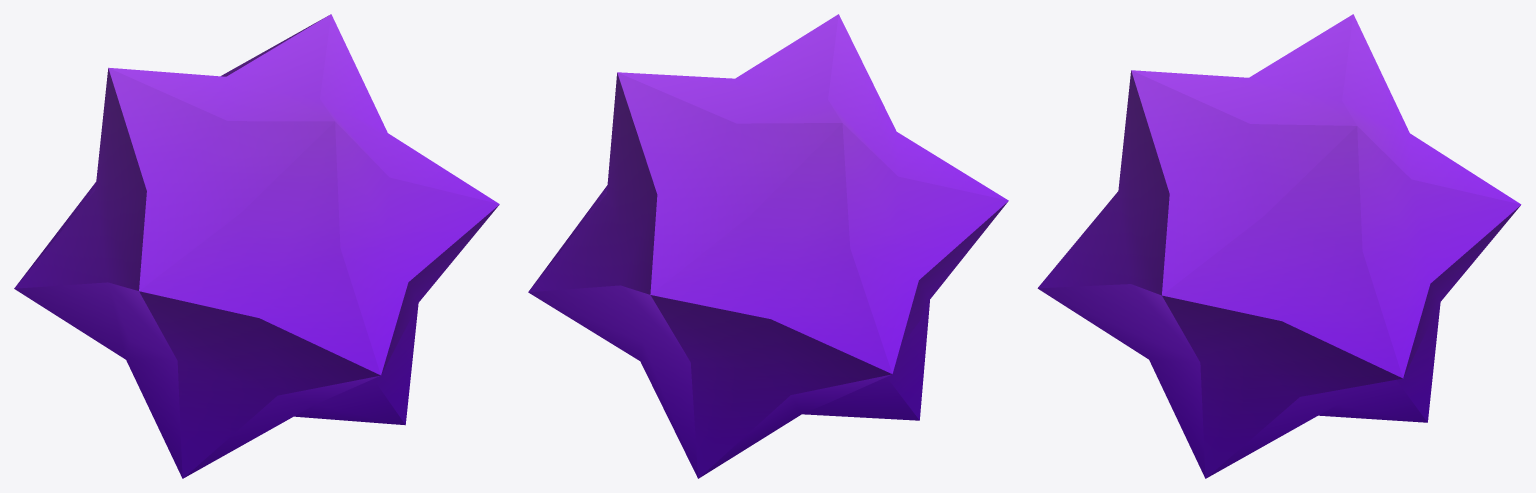
Rendered from Collectable_Gem_02.fbx.
The picture shows the model from 3 angles, left to right: view 1: azimuth 30°, elevation 25°; view 2: azimuth 150°, elevation 25°; view 3: azimuth 270°, elevation 25°; orthographic projection.
Visible parts, largest first — view 1: Collectable_Gem_02; view 2: Collectable_Gem_02; view 3: Collectable_Gem_02.
Part boxes in pixels (box(x1,y1,x2,y2)): Collectable_Gem_02: box(14, 14, 499, 478); Collectable_Gem_02: box(528, 14, 1008, 478); Collectable_Gem_02: box(1037, 14, 1521, 478).
Bounding box in the file's own units: 75.05 × 69.72 × 85.84.
